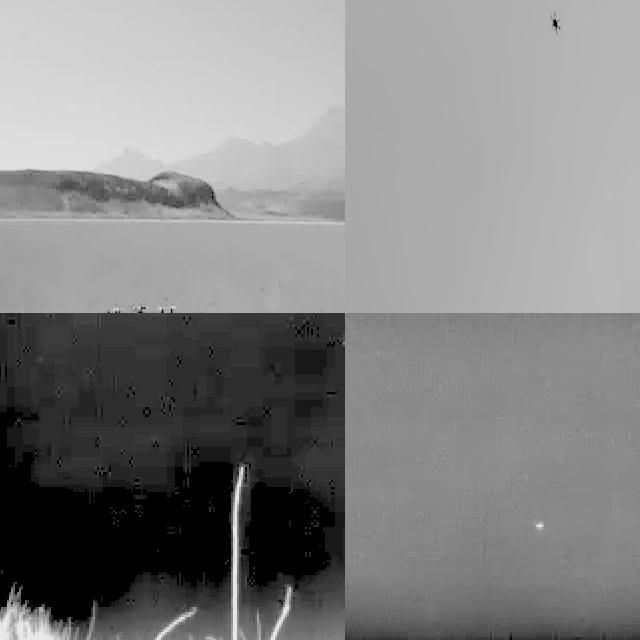0: (334, 332, 345, 359)
1: (521, 516, 549, 543)
drone: (104, 297, 177, 313), (546, 7, 566, 36)
